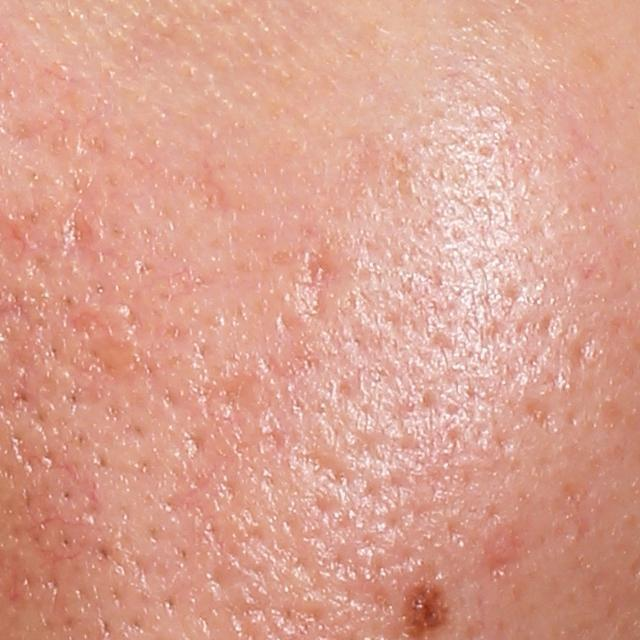atrophic_scar: (295, 243, 350, 328), (289, 449, 355, 490), (526, 398, 565, 436), (569, 324, 600, 365)
nevus: (398, 575, 453, 640)
